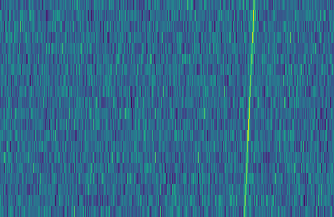signal: (241, 0, 260, 217)
